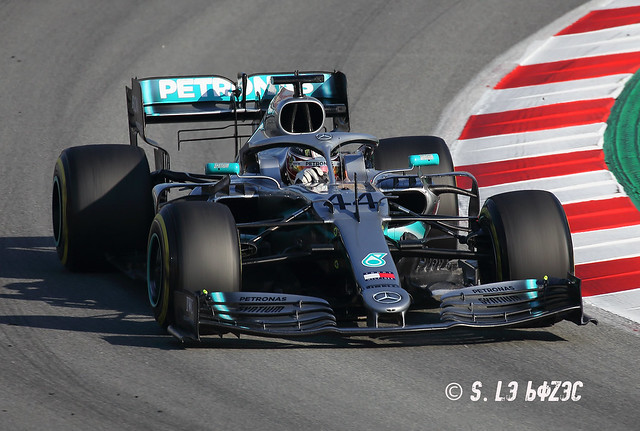F1 Car: (49, 66, 602, 355)
